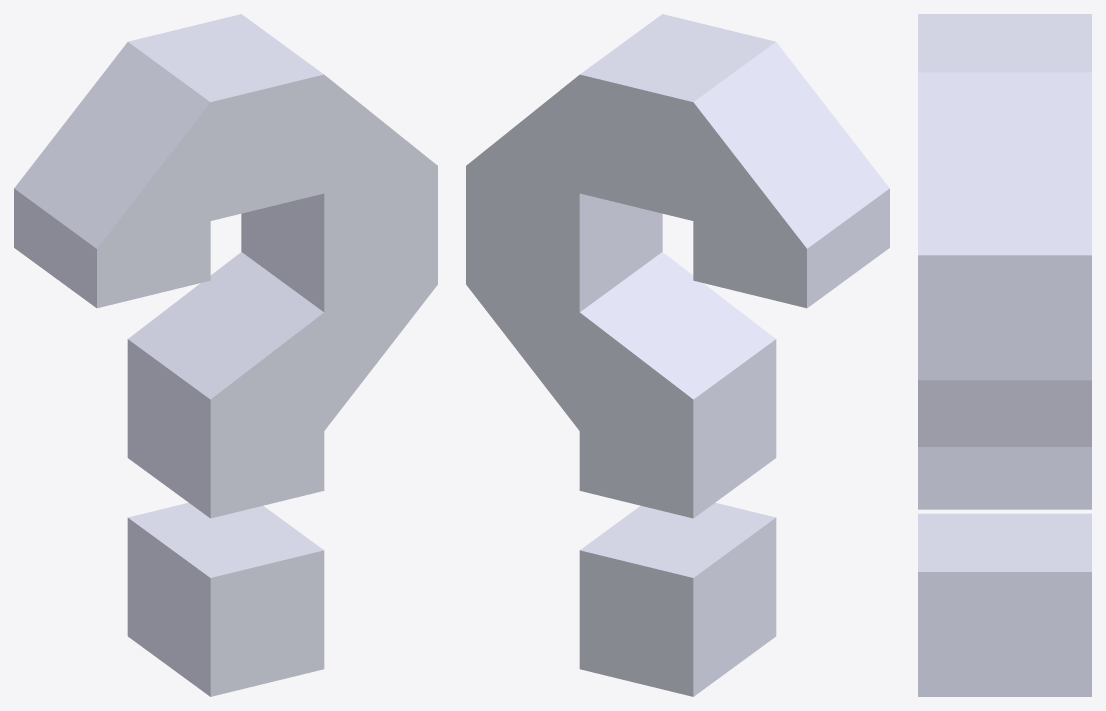
The picture shows the model from 3 angles, left to right: view 1: azimuth 30°, elevation 25°; view 2: azimuth 150°, elevation 25°; view 3: azimuth 270°, elevation 25°; orthographic projection. The views are drawn at different scales.
Parts seen in each view (by area): view 1: ?_DeltaBlock_Grey; view 2: ?_DeltaBlock_Grey; view 3: ?_DeltaBlock_Grey.
Boxes of the visible parts, left/top/right/bottom form: ?_DeltaBlock_Grey: left=14, top=14, right=437, bottom=696; ?_DeltaBlock_Grey: left=466, top=14, right=889, bottom=696; ?_DeltaBlock_Grey: left=918, top=14, right=1091, bottom=696.
Size of what is drawn, in the model's own units: 0.1071 by 0.1786 by 0.045.
Materials: 2 (2 with a texture image).
